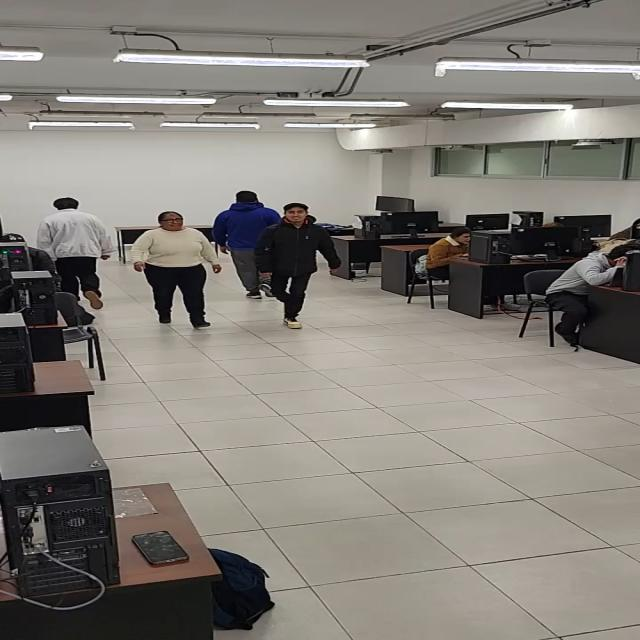Persona: (254, 202, 343, 328), (131, 210, 222, 330), (38, 196, 116, 310), (210, 190, 284, 299)
